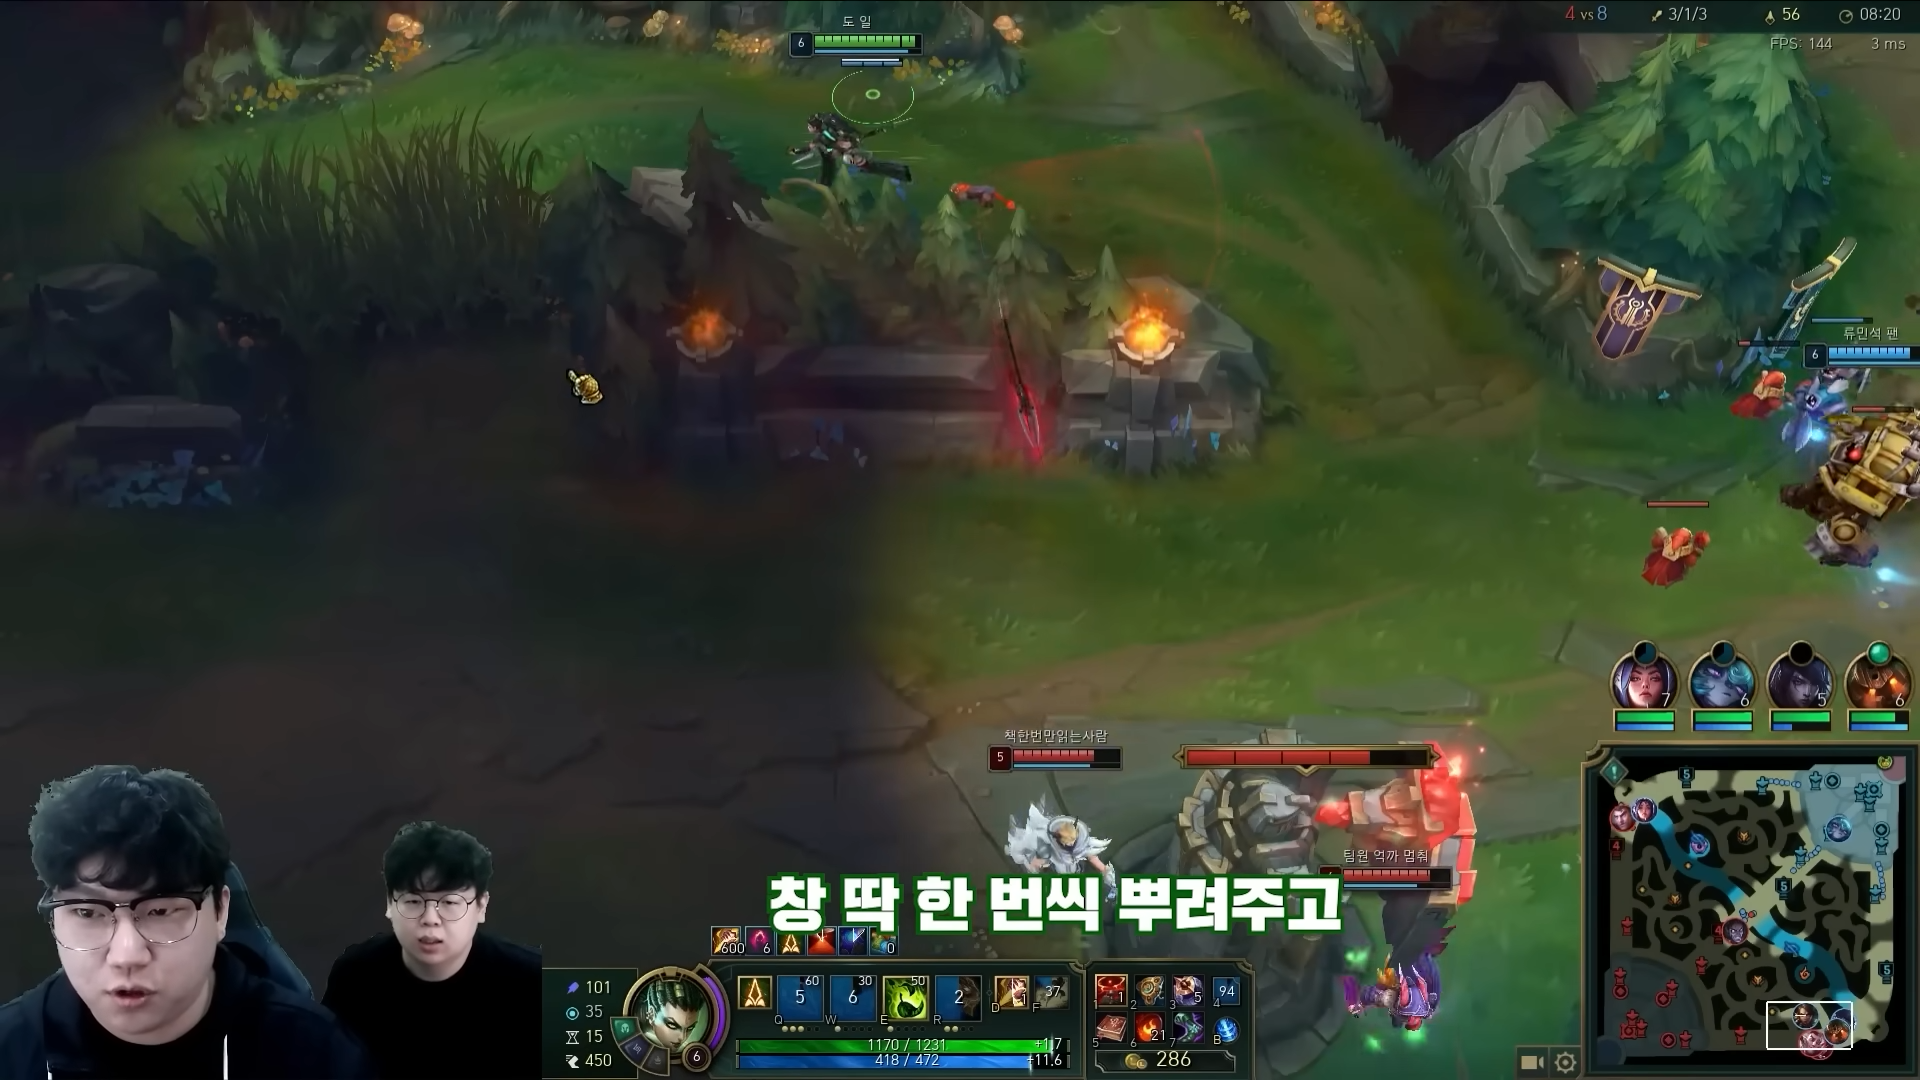Enemy: (978, 293, 1063, 465)
Javelin: (1305, 856, 1464, 902), (984, 735, 1129, 778)
Nidalee: (786, 25, 926, 67)
Partner: (1803, 335, 1917, 375)
